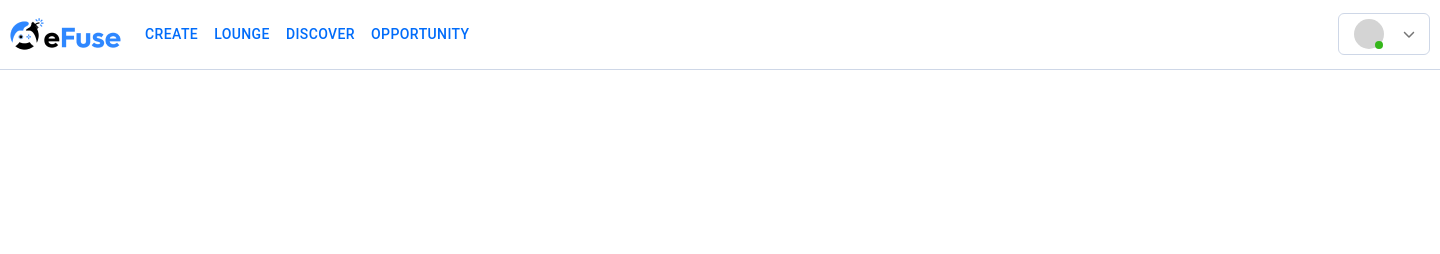
NavigationBarComponent › should show profile menu if button is clicked
Click the button with test id "profileMenuButton" at (1408, 34), box [1402, 19, 1414, 49]
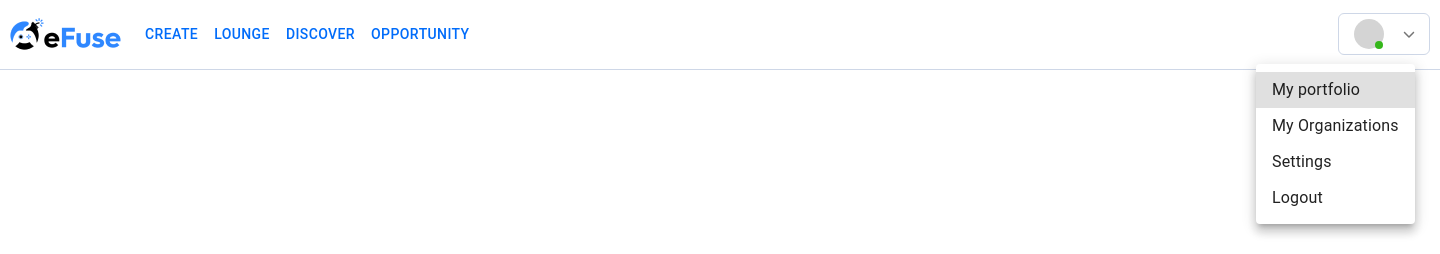
Now the element with test id "settingsMenu" is shown, box [1256, 64, 1415, 224]
Now the number of menu items with test id "settingsButton" is 4, box [1256, 72, 1415, 108]; [1272, 116, 1399, 135]; [1272, 152, 1332, 171]; [1272, 188, 1323, 207]
